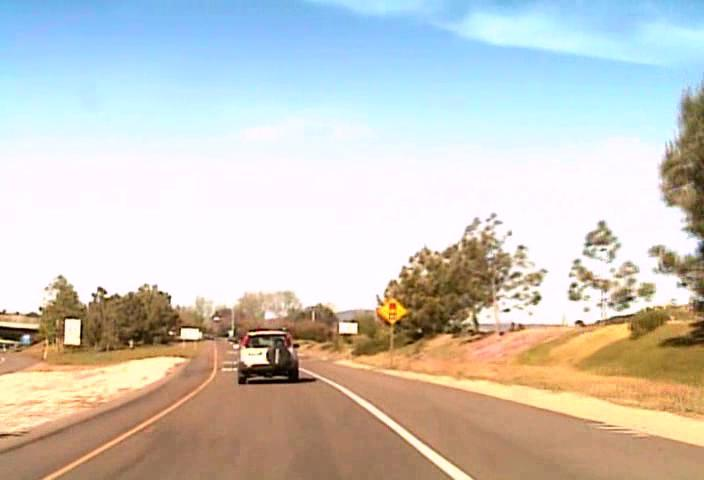signalAhead: (375, 296, 406, 325)
